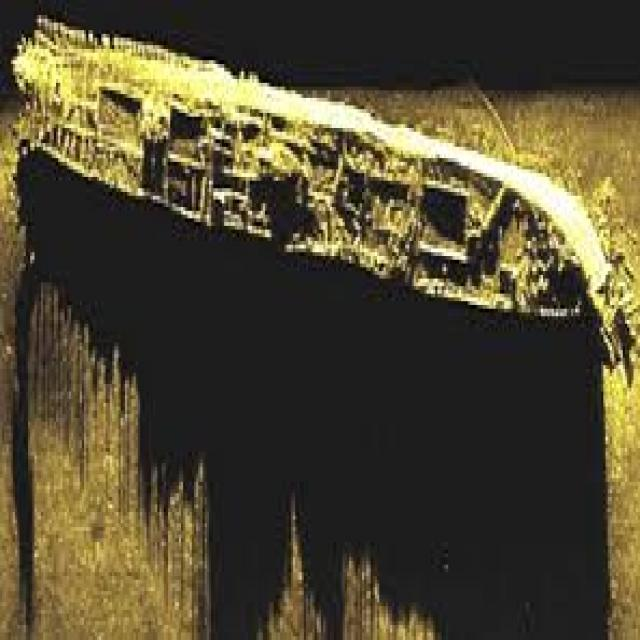ship: (5, 20, 349, 592)
